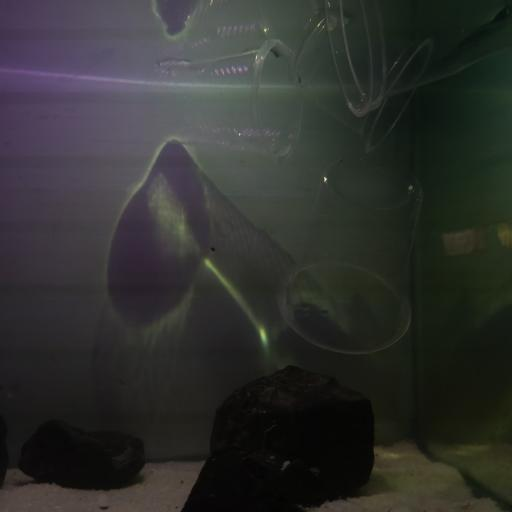plastic_cup: (276, 154, 424, 356), (324, 4, 512, 118), (288, 10, 433, 154), (144, 38, 305, 167)
